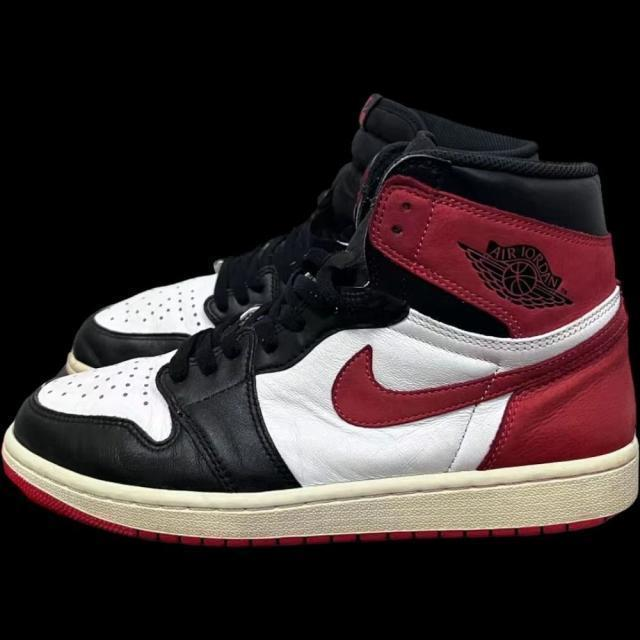nike original jordan 1: (0, 131, 634, 552), (64, 91, 542, 376)
